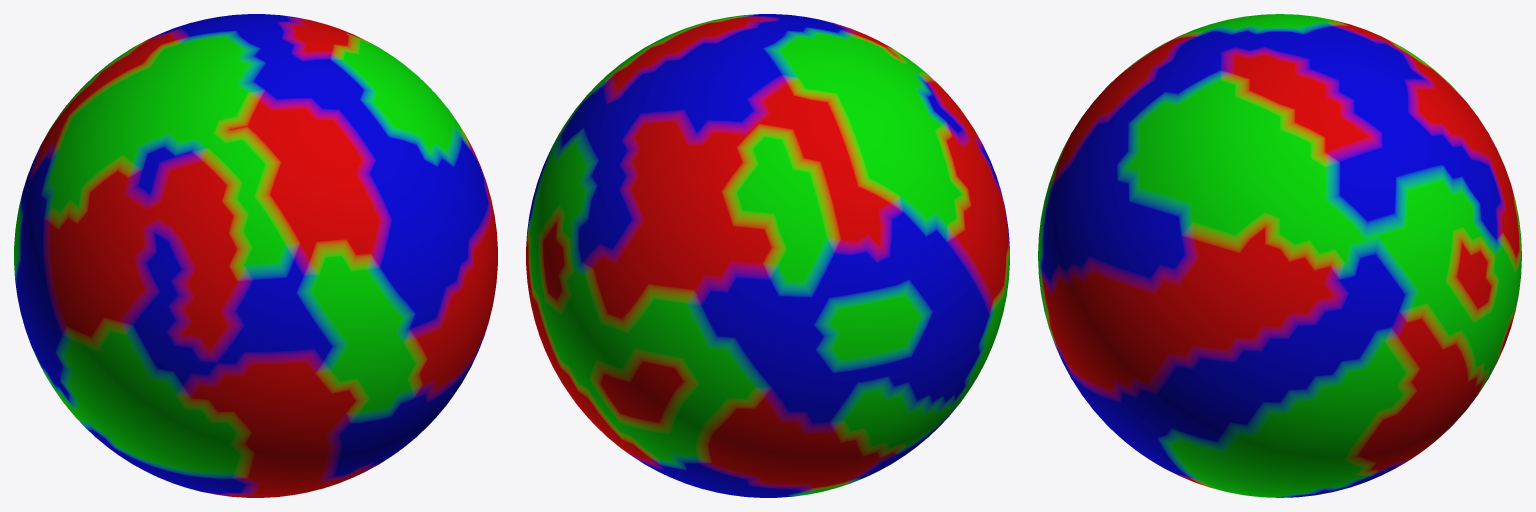
File: FieldSpawnPoints_004.fbx
3 renders of one model, left to right at view 1: azimuth 30°, elevation 25°; view 2: azimuth 150°, elevation 25°; view 3: azimuth 270°, elevation 25°, orthographic.
Parts seen in each view (by area): view 1: PlanetMesh_3_Items; view 2: PlanetMesh_3_Items; view 3: PlanetMesh_3_Items.
Boxes of the visible parts, <box> form: PlanetMesh_3_Items: <box>14,14,497,497</box>; PlanetMesh_3_Items: <box>526,14,1009,497</box>; PlanetMesh_3_Items: <box>1038,14,1521,497</box>.
Size of the model in its own units: 9996 by 9995 by 10000.
